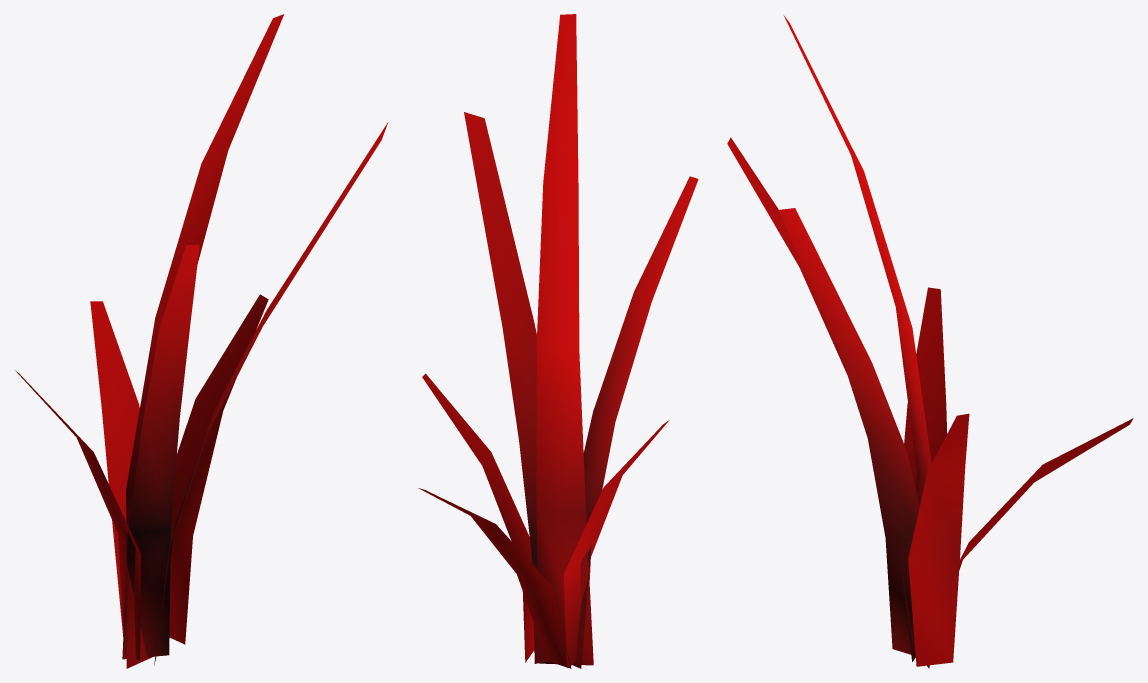
Rendered from SM_SugarCanePlants_2.fbx.
3 views of the same model, side by side, from view 1: azimuth 30°, elevation 25°; view 2: azimuth 150°, elevation 25°; view 3: azimuth 270°, elevation 25° (orthographic). The views are drawn at different scales.
Parts seen in each view (by area): view 1: SM_SugarCanePlants_2; view 2: SM_SugarCanePlants_2; view 3: SM_SugarCanePlants_2.
Boxes of the visible parts, left/top/right/bottom form: SM_SugarCanePlants_2: left=15, top=14, right=388, bottom=668; SM_SugarCanePlants_2: left=418, top=14, right=698, bottom=668; SM_SugarCanePlants_2: left=727, top=15, right=1133, bottom=668.
Bounding box in the file's own units: 0.2411 × 0.5173 × 0.2842.
